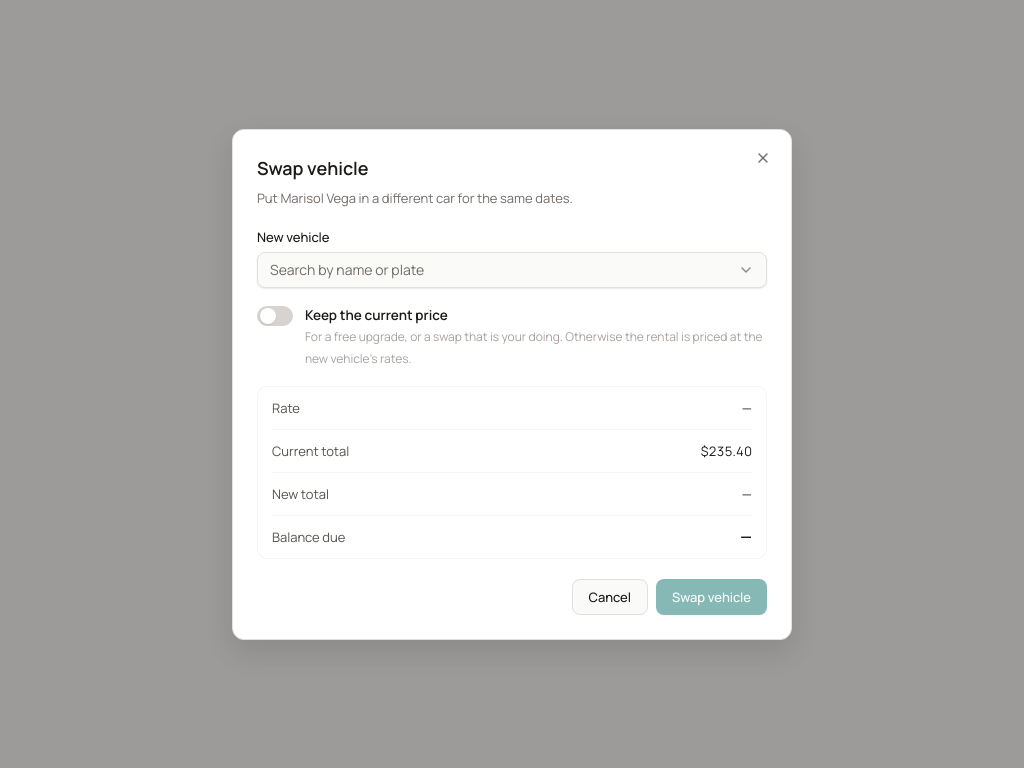
BookingSwapDialog › says why a car cannot be swapped in, and offers nothing to confirm
The width and height of the screenshot is (1024, 768).
Click the dropdown labelled "New vehicle".
click(500, 270)  # box x1=270 y1=258 x2=730 y2=280
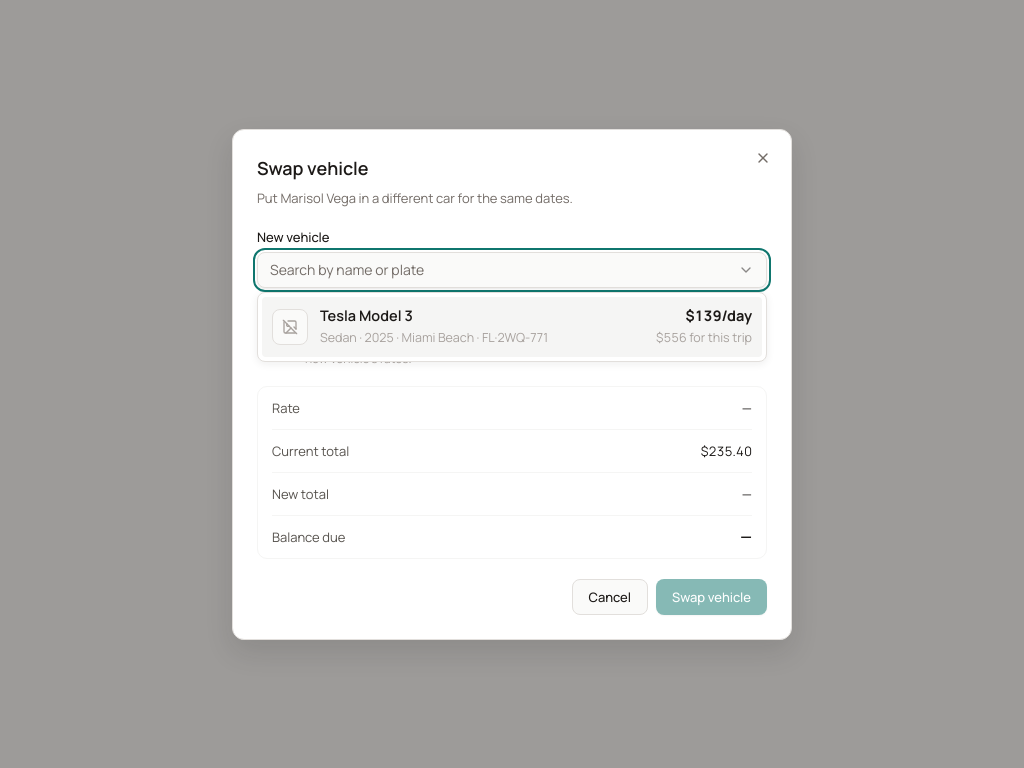
Click the option "FL·2WQ-771".
click(512, 327)  # box x1=262 y1=297 x2=762 y2=357
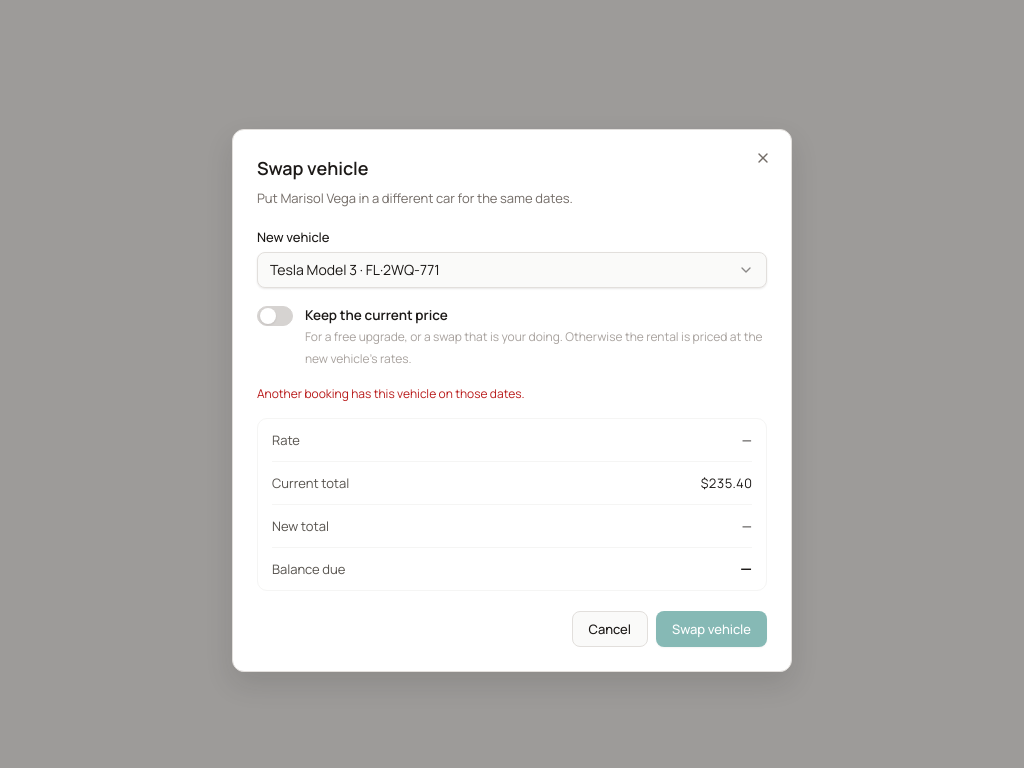
Expected: the button "Swap vehicle" is disabled, x1=656 y1=610 x2=767 y2=646
Result: the message reads "Another booking has this vehicle on those dates." at x1=257 y1=384 x2=525 y2=402
